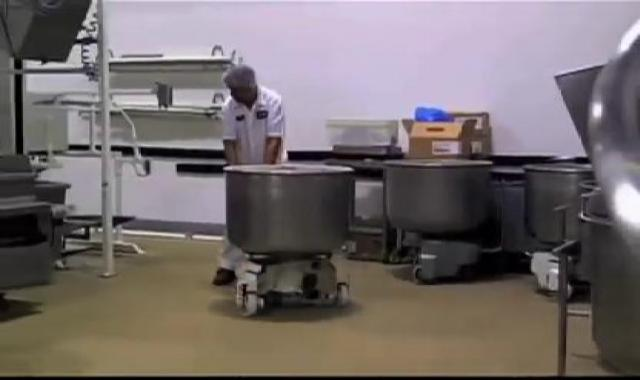hairnet: (218, 61, 272, 92)
